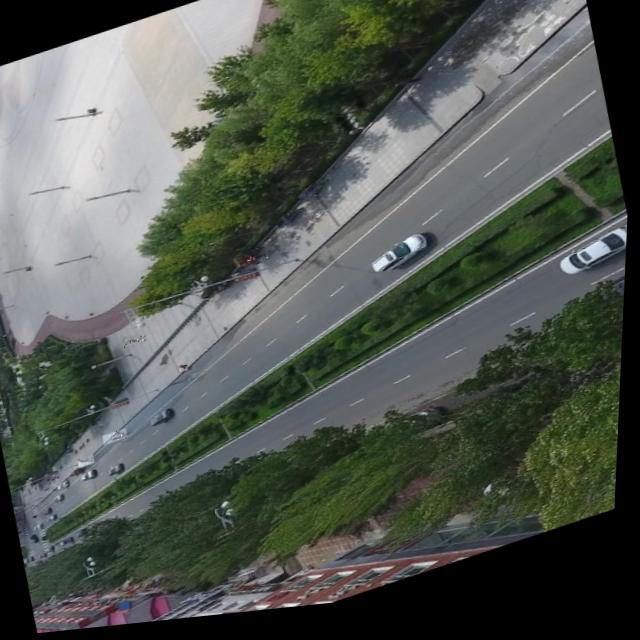Person: (106, 429, 132, 447), (124, 334, 150, 351), (248, 255, 275, 269), (81, 455, 99, 469), (49, 473, 66, 482), (180, 367, 191, 376), (48, 484, 59, 492), (52, 477, 64, 483)
